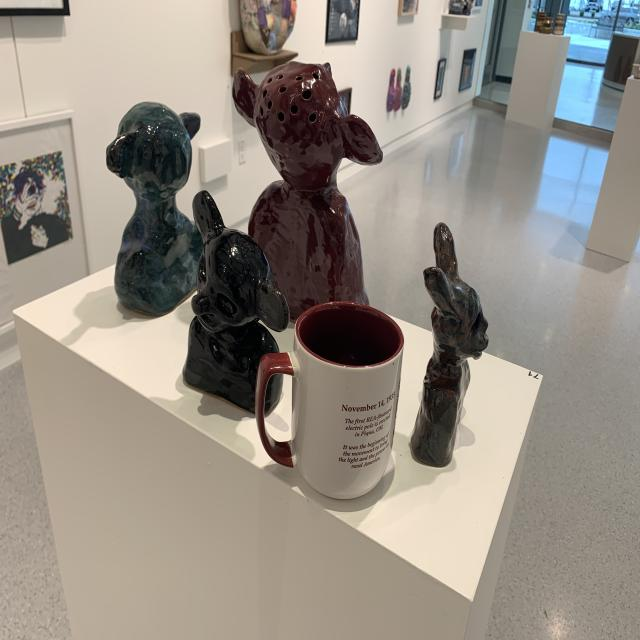Cup: (260, 296, 404, 514)
